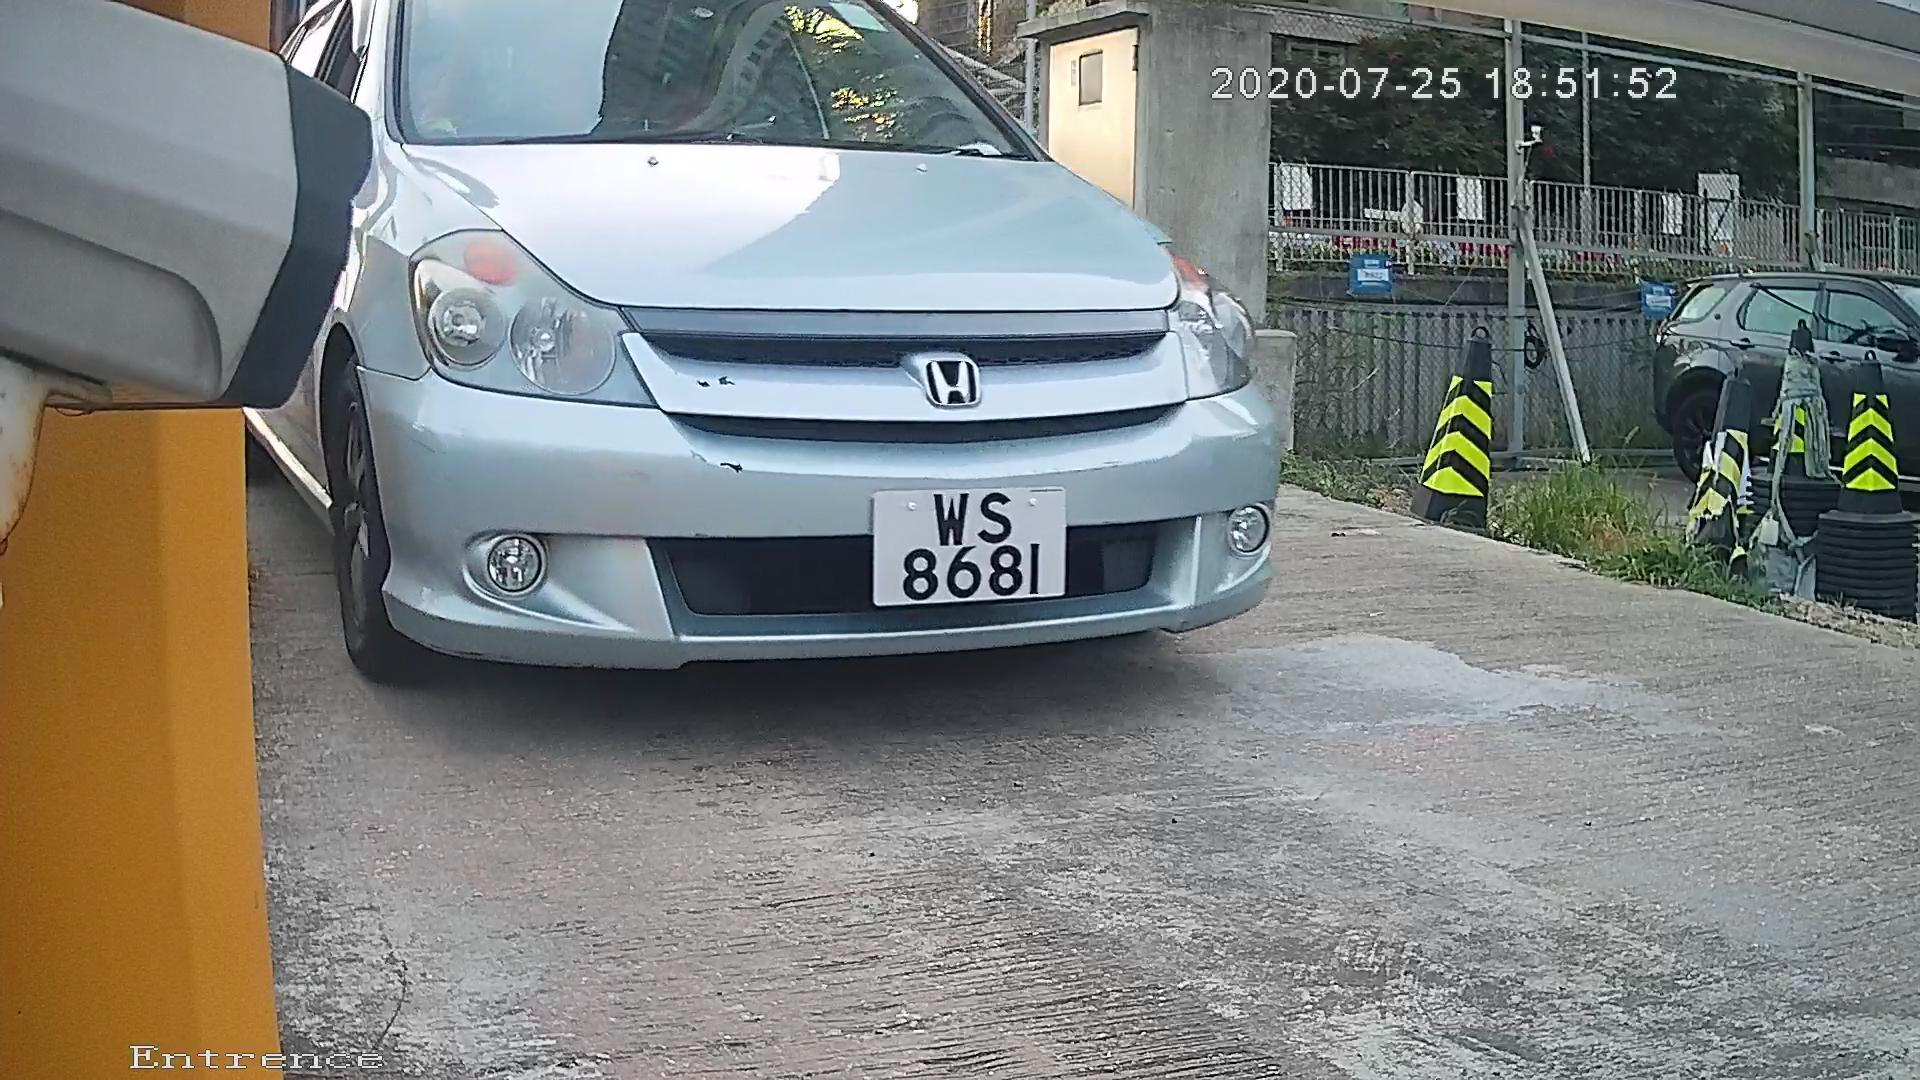privatecar: (258, 1, 1449, 724)
